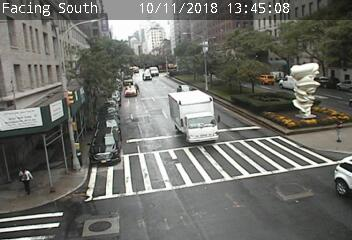car: (169, 90, 218, 143), (89, 128, 120, 163), (279, 76, 303, 92), (255, 75, 275, 86), (124, 85, 137, 96)
